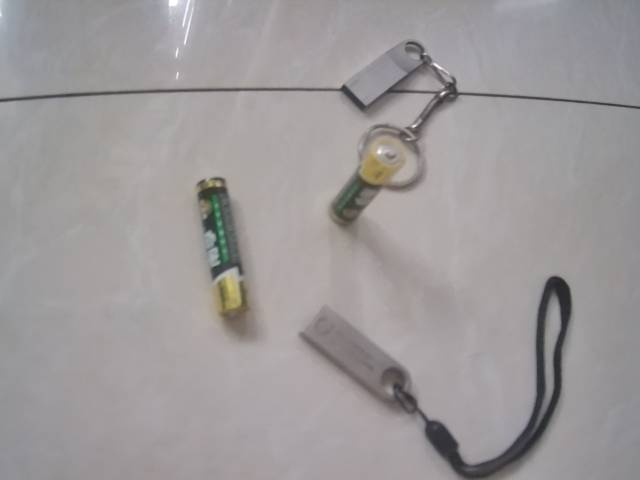U-disk: (290, 299, 470, 453), (337, 36, 477, 150)
battery: (187, 171, 257, 326), (328, 136, 402, 238)
